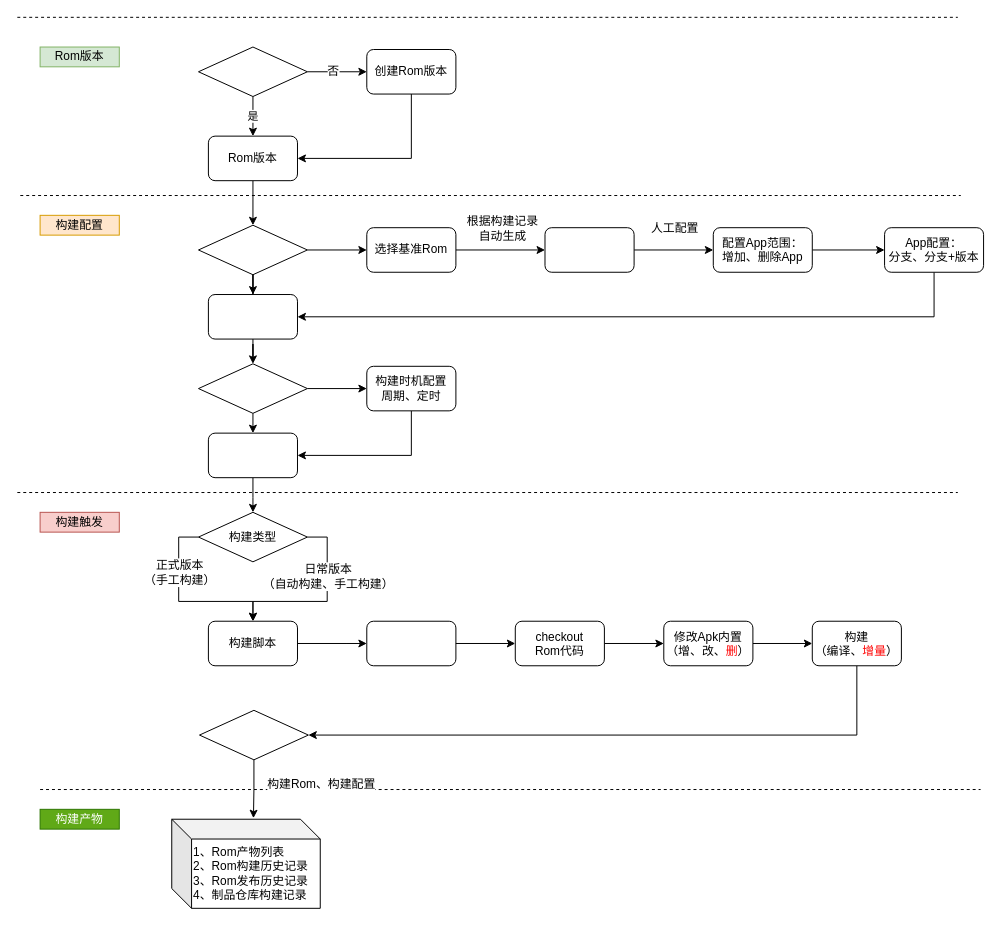
This 1001x926 diagram has some shape labels left out. Each missing label, with the centre of its shape:
App配置范围: pixel 589 249
Rom构建时机: pixel 252 455
Rom构建配置: pixel 252 316
存在 Rom版本？: pixel 252 71
存在Rom 构建时机配置？: pixel 252 388
存在Rom 构建配置？: pixel 252 249
拉包: pixel 411 643
构建结果: pixel 253 734
